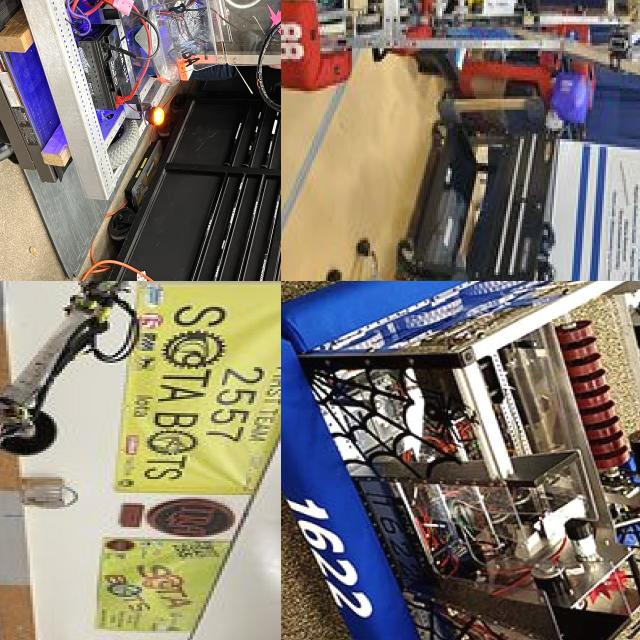FRC-Robots: (281, 281, 640, 640), (28, 0, 281, 238), (0, 281, 184, 544), (281, 0, 640, 121)
